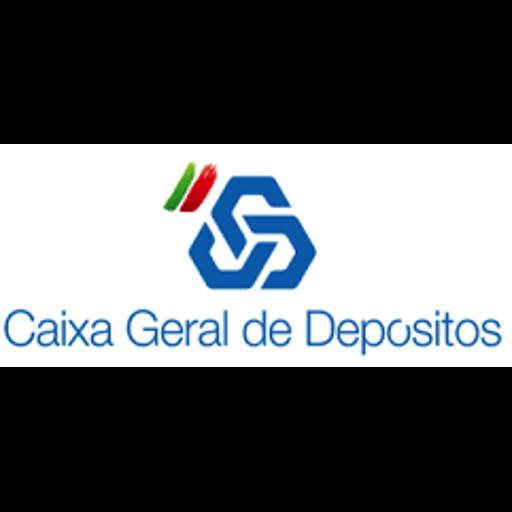Caixa Geral de Depositos: (0, 144, 512, 367)
